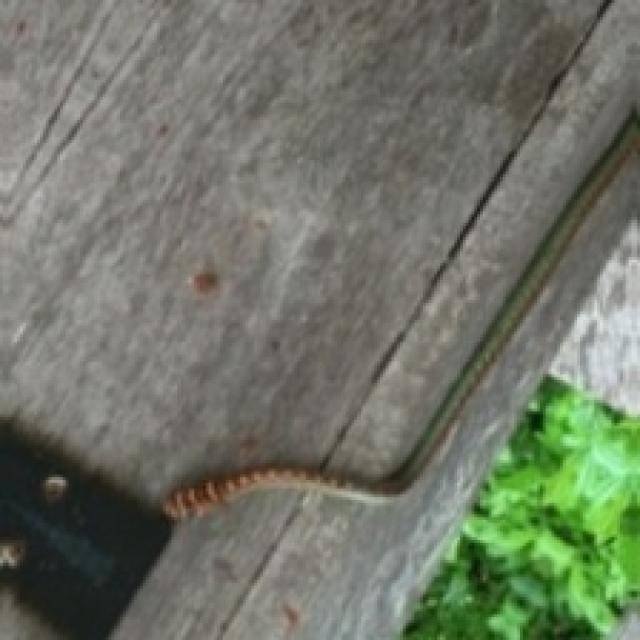paradise tree snake: (163, 114, 637, 520)
